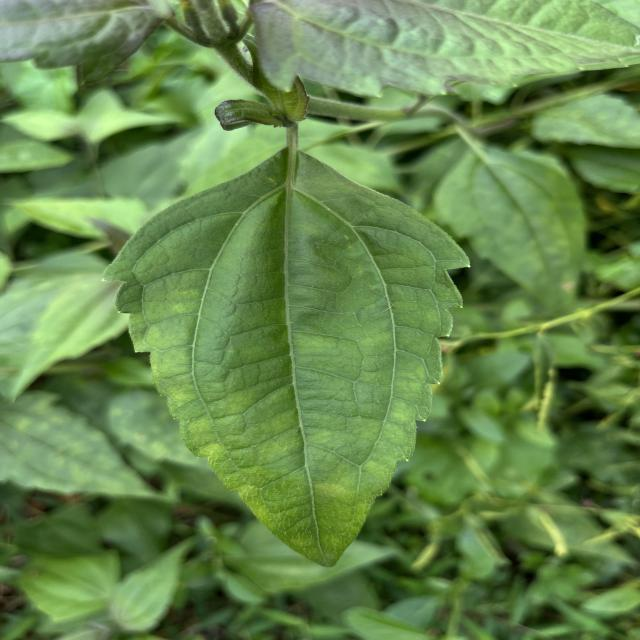Chromolaena odorata: (96, 143, 476, 572)
